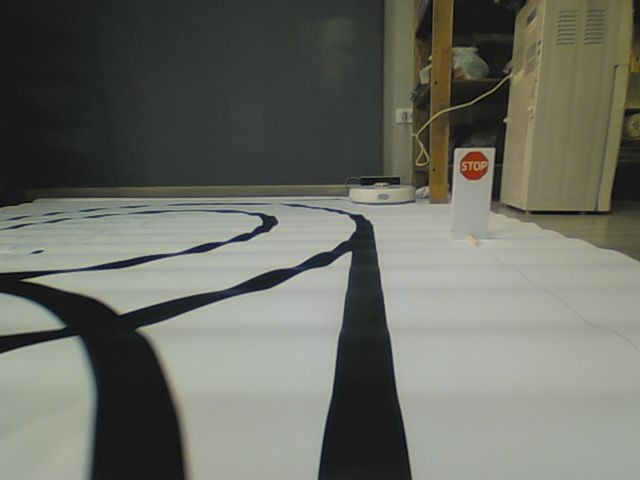Stop: (460, 150, 489, 181)
